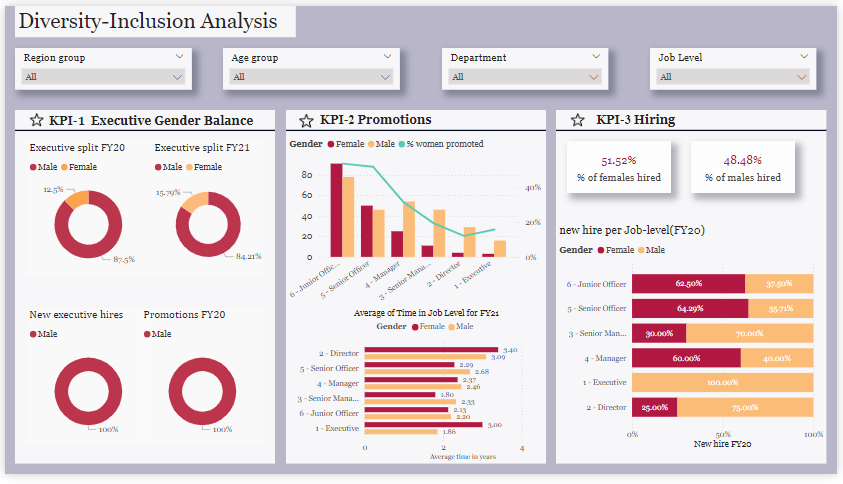

Layout of this report page (visuals, bound fields, positions):
{"tool":"powerbi","page":{"name":"KPI 1-3","canvas":[1280,720],"ordinal":0},"visuals":[{"type":"textbox","box":[16,0,432,48],"z":0},{"type":"slicer","fields":{"Values":["Pharma Group AG.Region group: nationality 1"]},"box":[16,64,272,64],"z":1000},{"type":"slicer","fields":{"Values":["Pharma Group AG.Department @01.07.2020"]},"box":[672,64,256,64],"z":2000},{"type":"slicer","fields":{"Values":["Pharma Group AG.Age group"]},"box":[336,64,272,64],"z":3000},{"type":"slicer","fields":{"Values":["Pharma Group AG.Job Level after FY20 promotions"]},"box":[992,64,256,64],"z":4000},{"type":"textbox","box":[16,160,400,544],"z":5000},{"type":"image","box":[32,160,32,30],"z":6000},{"type":"shape","box":[16,176,400,32],"z":7000},{"type":"textbox","box":[432,160,400,544],"z":8000},{"type":"textbox","box":[848,160,416,544],"z":9000},{"type":"shape","box":[432,176,400,32],"z":10000},{"type":"shape","box":[848,176,416,32],"z":11000},{"type":"image","box":[448,160,32,32],"z":12000},{"type":"image","box":[864,160,32,30],"z":13000},{"type":"donutChart","title":"Executive split FY20","fields":{"Category":["Pharma Group AG.Gender"],"Y":["Pharma Group AG.Gender"]},"box":[32,208,192,208],"z":14000},{"type":"donutChart","title":"Executive split FY21","fields":{"Category":["Pharma Group AG.Gender"],"Y":["Pharma Group AG.Gender"]},"box":[224,208,176,208],"z":15000},{"type":"donutChart","title":"New executive hires","fields":{"Category":["Pharma Group AG.Gender"],"Y":["Pharma Group AG.Gender"]},"box":[32,464,192,208],"z":16000},{"type":"donutChart","title":"Promotions FY20 ","fields":{"Category":["Pharma Group AG.Gender"],"Y":["Pharma Group AG.Gender"]},"box":[208,464,192,208],"z":17000},{"type":"lineClusteredColumnComboChart","fields":{"Y2":["Backing 1.promotion after FY21 women only"],"Category":["Pharma Group AG.Job Level after FY21 promotions"],"Y":["Pharma Group AG.Job Level after FY21 promotions"],"Series":["Pharma Group AG.Gender"]},"box":[432,192,400,272],"z":18000},{"type":"clusteredBarChart","title":"Average of Time in Job Level for FY21 ","fields":{"Category":["Pharma Group AG.Job Level after FY20 promotions"],"Series":["Pharma Group AG.Gender"],"Y":["Pharma Group AG.Time in Job Level @01.07.2020"]},"box":[432,464,432,240],"z":19000},{"type":"hundredPercentStackedBarChart","title":"new hire per Job-level(FY20)","fields":{"Series":["Pharma Group AG.Gender"],"Category":["Pharma Group AG.Job Level after FY20 promotions"],"Y":["Pharma Group AG.New hire FY20?"]},"box":[848,336,416,352],"z":20000},{"type":"card","fields":{"Values":["Pharma Group AG.% of females hired"]},"box":[864,208,160,80],"z":21000},{"type":"card","fields":{"Values":["Pharma Group AG.% of males hired"]},"box":[1056,208,160,80],"z":22000}]}

Visuals, with their boxes in screenshot pixels (x1, y1, x2, y2), scaled from the page's 1280x720 canvas onto the 843x484 screenshot:
textbox: rect(11, 0, 295, 32)
slicer - Pharma Group AG.Region group: nationality 1: rect(11, 43, 190, 86)
slicer - Pharma Group AG.Department @01.07.2020: rect(443, 43, 611, 86)
slicer - Pharma Group AG.Age group: rect(221, 43, 400, 86)
slicer - Pharma Group AG.Job Level after FY20 promotions: rect(653, 43, 822, 86)
textbox: rect(11, 108, 274, 473)
image: rect(21, 108, 42, 128)
shape: rect(11, 118, 274, 140)
textbox: rect(285, 108, 548, 473)
textbox: rect(558, 108, 832, 473)
shape: rect(285, 118, 548, 140)
shape: rect(558, 118, 832, 140)
image: rect(295, 108, 316, 129)
image: rect(569, 108, 590, 128)
"Executive split FY20" donutChart: rect(21, 140, 148, 280)
"Executive split FY21" donutChart: rect(148, 140, 263, 280)
"New executive hires" donutChart: rect(21, 312, 148, 452)
"Promotions FY20 " donutChart: rect(137, 312, 263, 452)
lineClusteredColumnComboChart - Backing 1.promotion after FY21 women only x Pharma Group AG.Job Level after FY21 promotions: rect(285, 129, 548, 312)
"Average of Time in Job Level for FY21 " clusteredBarChart: rect(285, 312, 569, 473)
"new hire per Job-level(FY20)" hundredPercentStackedBarChart: rect(558, 226, 832, 462)
card - Pharma Group AG.% of females hired: rect(569, 140, 674, 194)
card - Pharma Group AG.% of males hired: rect(695, 140, 801, 194)
